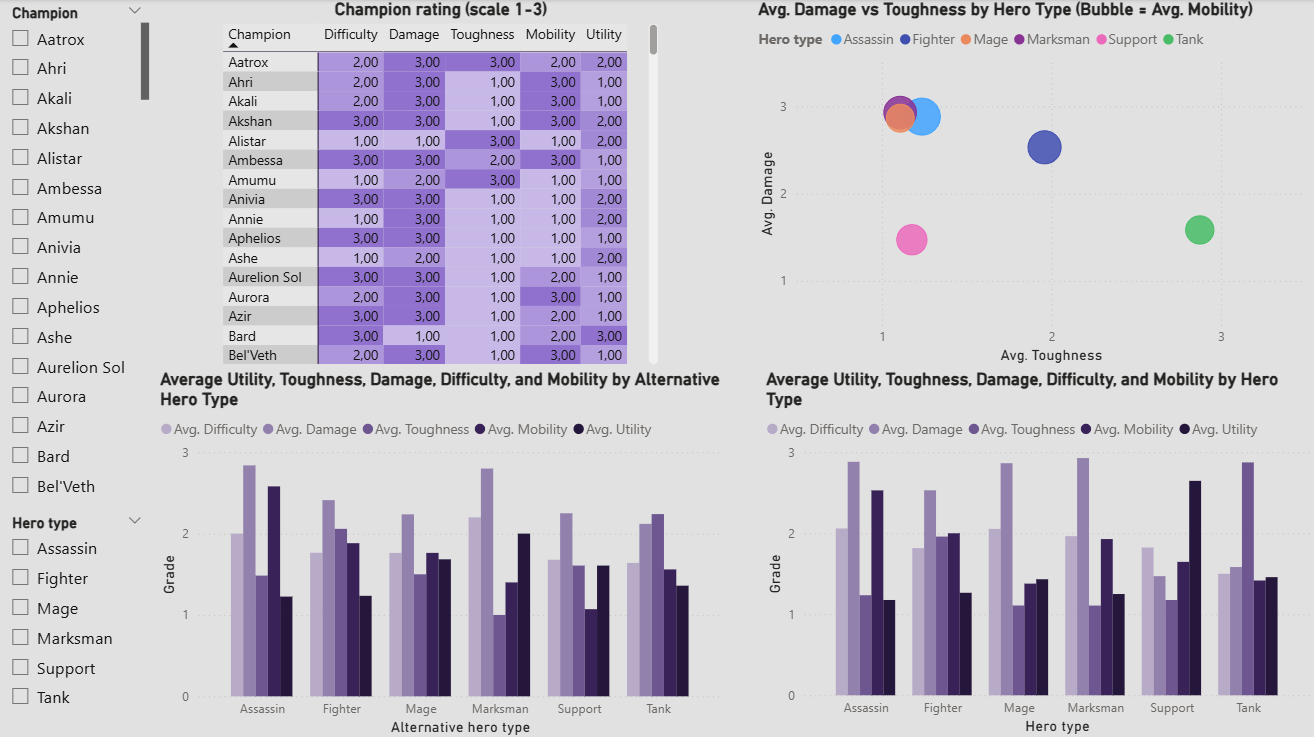

This screenshot's page, from the dashboard's own definition file:
{"tool":"powerbi","page":{"name":"Ocena","canvas":[1280,720],"ordinal":3},"visuals":[{"type":"slicer","fields":{"Values":["v_champion_stats.champion"]},"box":[0,0,151.3,496.5],"z":0},{"type":"slicer","fields":{"Values":["v_champion_stats.hero_type"]},"box":[0,496.5,151.3,223.9],"z":1000},{"type":"pivotTable","title":"Ocena bohatera (skala 1-3)","fields":{"Rows":["v_champion_stats.champion"],"Values":["_Miary.Śr. Difficulty","_Miary.Śr. Damage (grade)","_Miary.Śr. Toughness","_Miary.Śr. Mobility","_Miary.Śr. Utility"]},"box":[151.3,0,581.4,359.6],"z":2000},{"type":"scatterChart","title":"Śr. Difficulty, Śr. Damage i Śr. Toughness w podziale na typ boahatera","fields":{"X":["_Miary.Śr. Difficulty"],"Y":["_Miary.Śr. Damage (grade)"],"Series":["v_champion_stats.hero_type"],"Size":["_Miary.Śr. Toughness"]},"box":[733.4,0,546.6,359.9],"z":3000},{"type":"clusteredColumnChart","title":"Średnie Utility, Toughness, Damage, Difficulty, Mobility w podziale dla typu bohatera","fields":{"Category":["v_champion_stats.hero_type"],"Y":["_Miary.Śr. Difficulty","_Miary.Śr. Damage (grade)","_Miary.Śr. Toughness","_Miary.Śr. Mobility","_Miary.Śr. Utility"]},"box":[741.1,359.6,538.9,360.7],"z":4000},{"type":"clusteredColumnChart","title":"Średnie Utility, Toughness, Damage, Difficulty, Mobility w podziale dla alternatywnego typu bohatera","fields":{"Y":["_Miary.Śr. Difficulty","_Miary.Śr. Damage (grade)","_Miary.Śr. Toughness","_Miary.Śr. Mobility","_Miary.Śr. Utility"],"Category":["v_champion_stats.alternative_hero_type"]},"box":[151.6,359.5,556.6,361.7],"z":5000}]}

Visuals, with their boxes on the page's 1280x720 design canvas (x1, y1, x2, y2). These are canvas units, not pixel positions in the 1314x737 screenshot, which may show the page scaled, cropped or inside an application window:
slicer - v_champion_stats.champion: 0,0,151,496
slicer - v_champion_stats.hero_type: 0,496,151,720
"Ocena bohatera (skala 1-3)" pivotTable: 151,0,733,360
"Śr. Difficulty, Śr. Damage i Śr. Toughness w podziale na typ boahatera" scatterChart: 733,0,1280,360
"Średnie Utility, Toughness, Damage, Difficulty, Mobility w podziale dla typu bohatera" clusteredColumnChart: 741,360,1280,720
"Średnie Utility, Toughness, Damage, Difficulty, Mobility w podziale dla alternatywnego typu bohatera" clusteredColumnChart: 152,360,708,721
